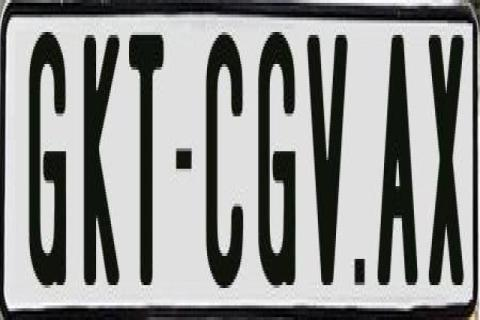A: (376, 29, 417, 291)
C: (206, 32, 244, 288)
G: (26, 27, 68, 286), (258, 29, 298, 299)
K: (82, 29, 118, 291)
T: (129, 35, 163, 288)
V: (306, 35, 346, 285)
X: (428, 32, 462, 294)
